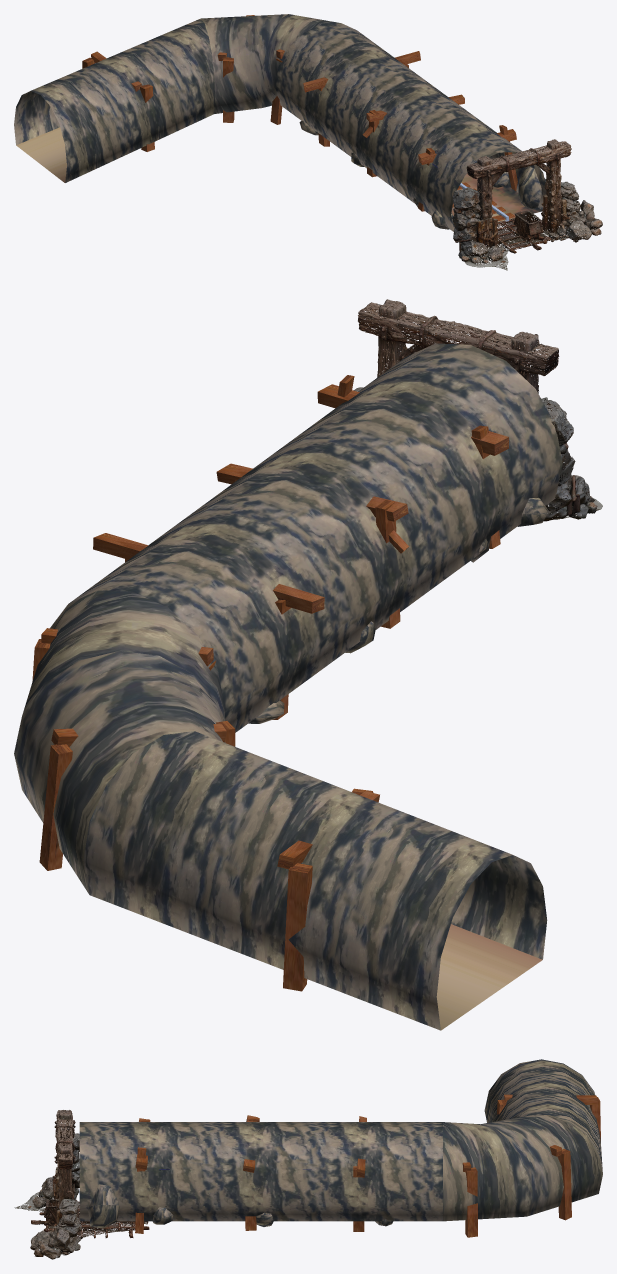
The model's file is AR_Mine_Optimized.glb.
The picture shows the model from 3 angles, top to bottom: view 1: azimuth 30°, elevation 25°; view 2: azimuth 150°, elevation 25°; view 3: azimuth 270°, elevation 25°; orthographic projection. The views are drawn at different scales.
Visible parts, largest first — view 1: Object_6, Object_4, Object_7, tripo_node_4b20330a_tripo_mat_4b20330a_0.014, tripo_node_4b20330a_tripo_mat_4b20330a_0.005, tripo_node_4b20330a_tripo_mat_4b20330a_0.010, tripo_node_4b20330a_tripo_mat_4b20330a_0.013, tripo_node_4b20330a_tripo_mat_4b20330a_0.004, Object_37, tripo_node_4b20330a_tripo_mat_4b20330a_0.012, tripo_node_4b20330a_tripo_mat_4b20330a_0.011, tripo_node_4b20330a_tripo_mat_4b20330a_0.006 (+14 smaller); view 2: Object_6, Object_4, Object_7, tripo_node_4b20330a_tripo_mat_4b20330a_0.014, tripo_node_4b20330a_tripo_mat_4b20330a_0.013, tripo_node_4b20330a_tripo_mat_4b20330a_0.007, tripo_node_4b20330a_tripo_mat_4b20330a_0.004, tripo_node_4b20330a_tripo_mat_4b20330a_0.005; view 3: Object_6, Object_4, Object_37, tripo_node_4b20330a_tripo_mat_4b20330a_0, tripo_node_4b20330a_tripo_mat_4b20330a_0.001, tripo_node_4b20330a_tripo_mat_4b20330a_0.003, tripo_node_4b20330a_tripo_mat_4b20330a_0.007, tripo_node_4b20330a_tripo_mat_4b20330a_0.002, tripo_node_4b20330a_tripo_mat_4b20330a_0.008, tripo_node_4b20330a_tripo_mat_4b20330a_0.004, tripo_node_4b20330a_tripo_mat_4b20330a_0.010, tripo_node_4b20330a_tripo_mat_4b20330a_0.012 (+2 smaller).
Boxes of the visible parts, x1,y1,x2,y2 form: Object_6: [14, 14, 546, 231]; Object_4: [82, 15, 517, 211]; Object_7: [16, 127, 541, 231]; tripo_node_4b20330a_tripo_mat_4b20330a_0.014: [452, 188, 481, 267]; tripo_node_4b20330a_tripo_mat_4b20330a_0.005: [524, 140, 567, 240]; tripo_node_4b20330a_tripo_mat_4b20330a_0.010: [470, 156, 507, 270]; tripo_node_4b20330a_tripo_mat_4b20330a_0.013: [452, 165, 489, 267]; tripo_node_4b20330a_tripo_mat_4b20330a_0.004: [539, 139, 576, 240]; Object_37: [518, 166, 549, 208]; tripo_node_4b20330a_tripo_mat_4b20330a_0.012: [462, 163, 507, 267]; tripo_node_4b20330a_tripo_mat_4b20330a_0.011: [462, 157, 508, 268]; tripo_node_4b20330a_tripo_mat_4b20330a_0.006: [532, 148, 566, 240]; Object_6: [14, 343, 562, 1030]; Object_4: [32, 375, 508, 991]; Object_7: [436, 924, 542, 1030]; tripo_node_4b20330a_tripo_mat_4b20330a_0.014: [545, 401, 602, 519]; tripo_node_4b20330a_tripo_mat_4b20330a_0.013: [520, 347, 594, 520]; tripo_node_4b20330a_tripo_mat_4b20330a_0.007: [371, 312, 436, 356]; tripo_node_4b20330a_tripo_mat_4b20330a_0.004: [358, 299, 408, 376]; tripo_node_4b20330a_tripo_mat_4b20330a_0.005: [358, 300, 418, 373]; Object_6: [79, 1059, 602, 1221]; Object_4: [135, 1094, 600, 1237]; Object_37: [88, 1184, 119, 1228]; tripo_node_4b20330a_tripo_mat_4b20330a_0: [34, 1214, 79, 1259]; tripo_node_4b20330a_tripo_mat_4b20330a_0.001: [30, 1161, 82, 1254]; tripo_node_4b20330a_tripo_mat_4b20330a_0.003: [31, 1154, 78, 1247]; tripo_node_4b20330a_tripo_mat_4b20330a_0.007: [44, 1140, 149, 1236]; tripo_node_4b20330a_tripo_mat_4b20330a_0.002: [31, 1148, 80, 1250]; tripo_node_4b20330a_tripo_mat_4b20330a_0.008: [43, 1140, 147, 1231]; tripo_node_4b20330a_tripo_mat_4b20330a_0.004: [40, 1145, 80, 1242]; tripo_node_4b20330a_tripo_mat_4b20330a_0.010: [14, 1110, 79, 1209]; tripo_node_4b20330a_tripo_mat_4b20330a_0.012: [22, 1110, 79, 1210].
Bounding box in the file's own units: 19.63 × 7.1 × 29.92.
Materials: 10 (5 with a texture image).
